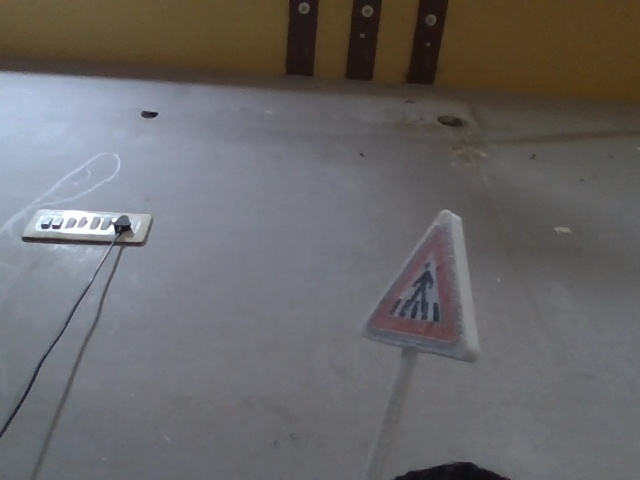crossing: (343, 219, 472, 346)
